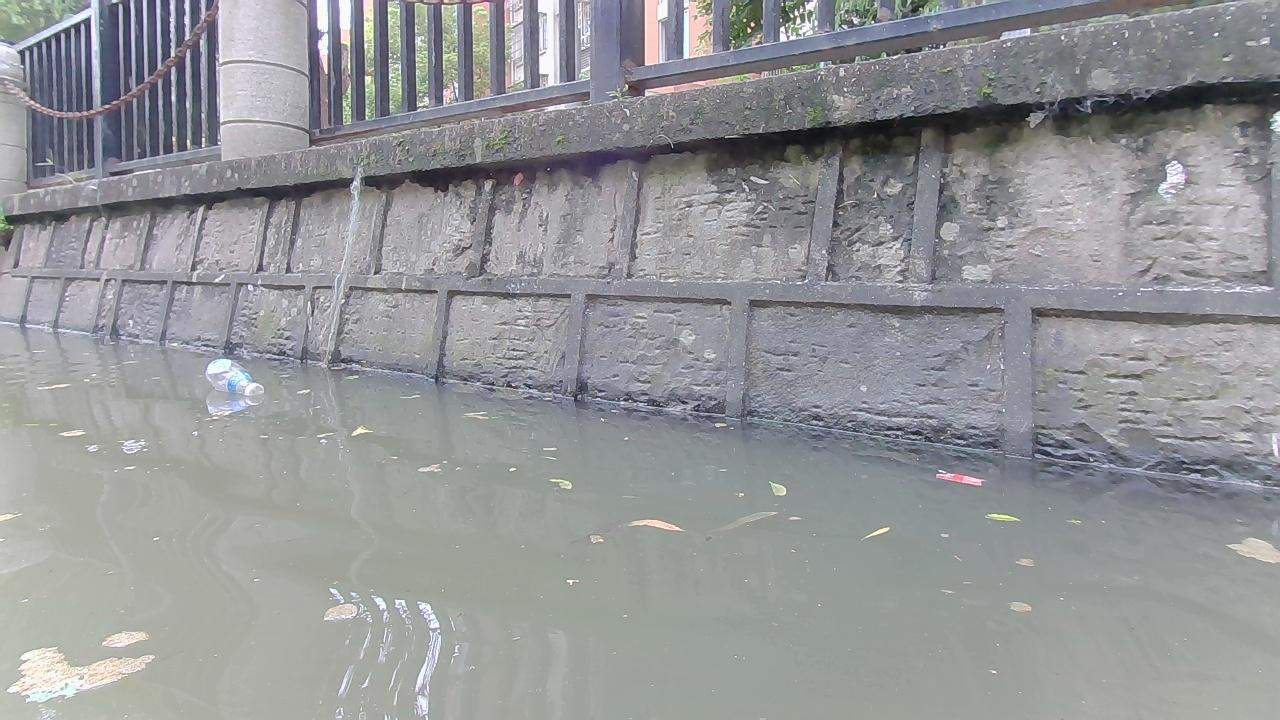bottle: (204, 357, 263, 396)
